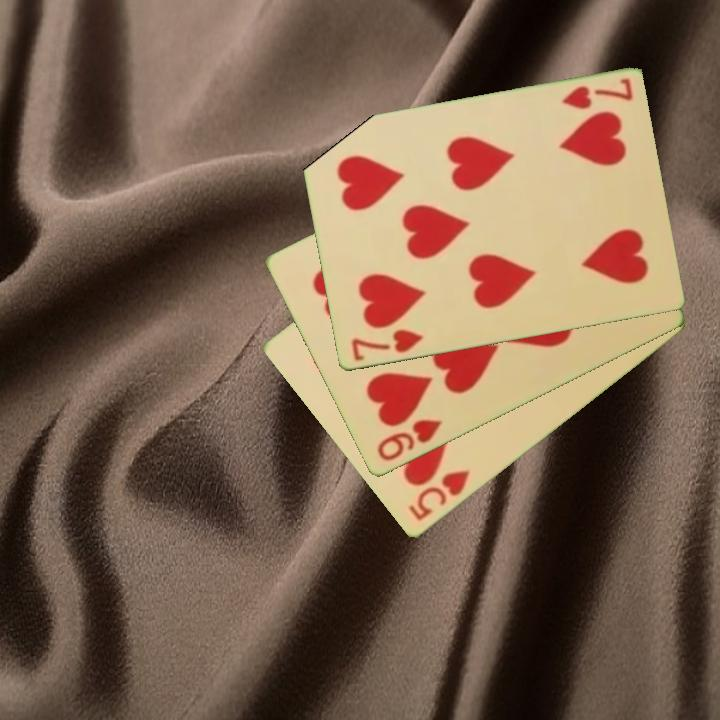5h: (405, 467, 473, 524)
7h: (347, 326, 426, 365), (558, 75, 635, 113)
9h: (373, 416, 445, 465)
